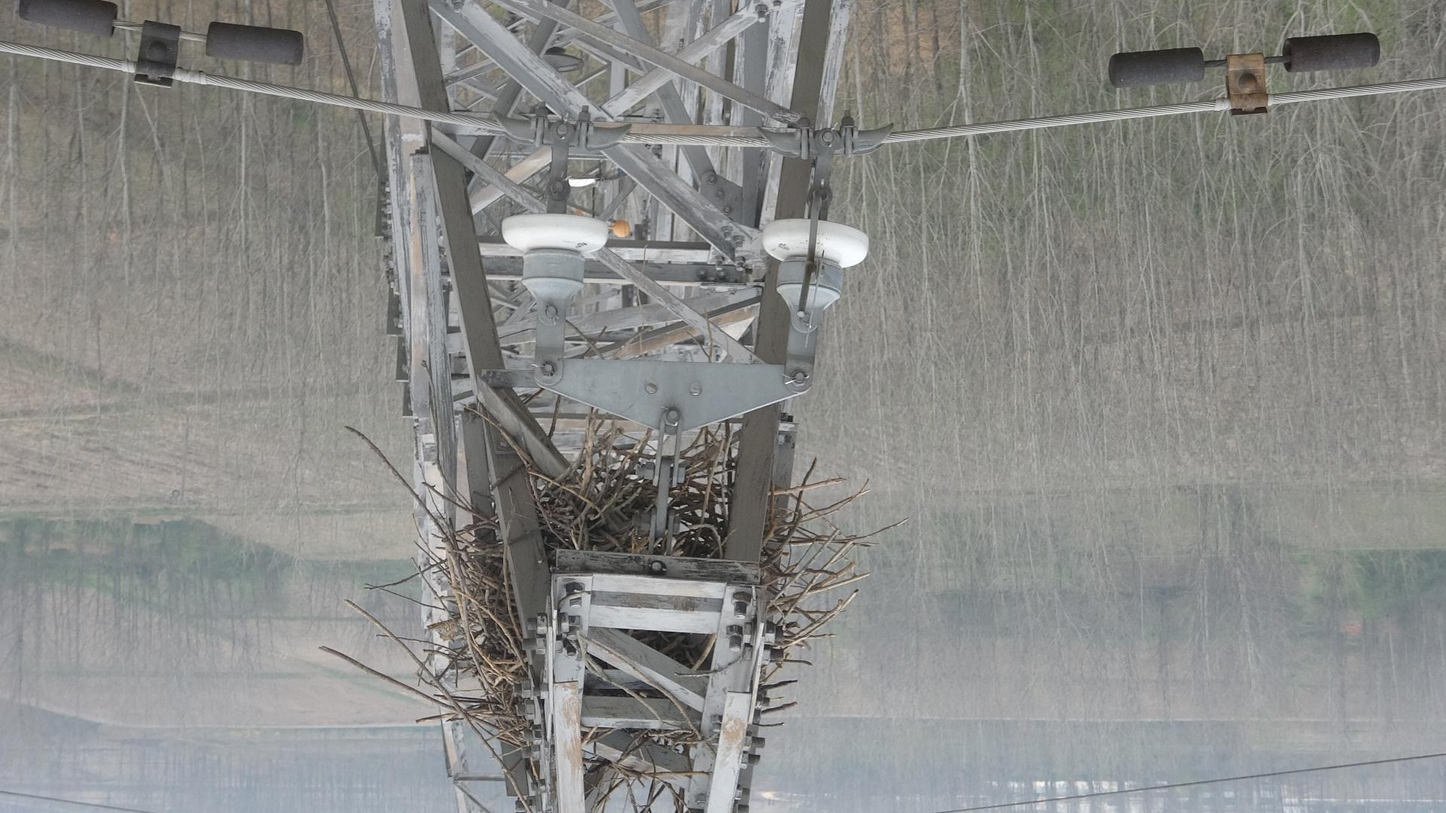damper: (8, 1, 310, 99), (1097, 26, 1389, 125)
nest: (382, 422, 871, 793)
